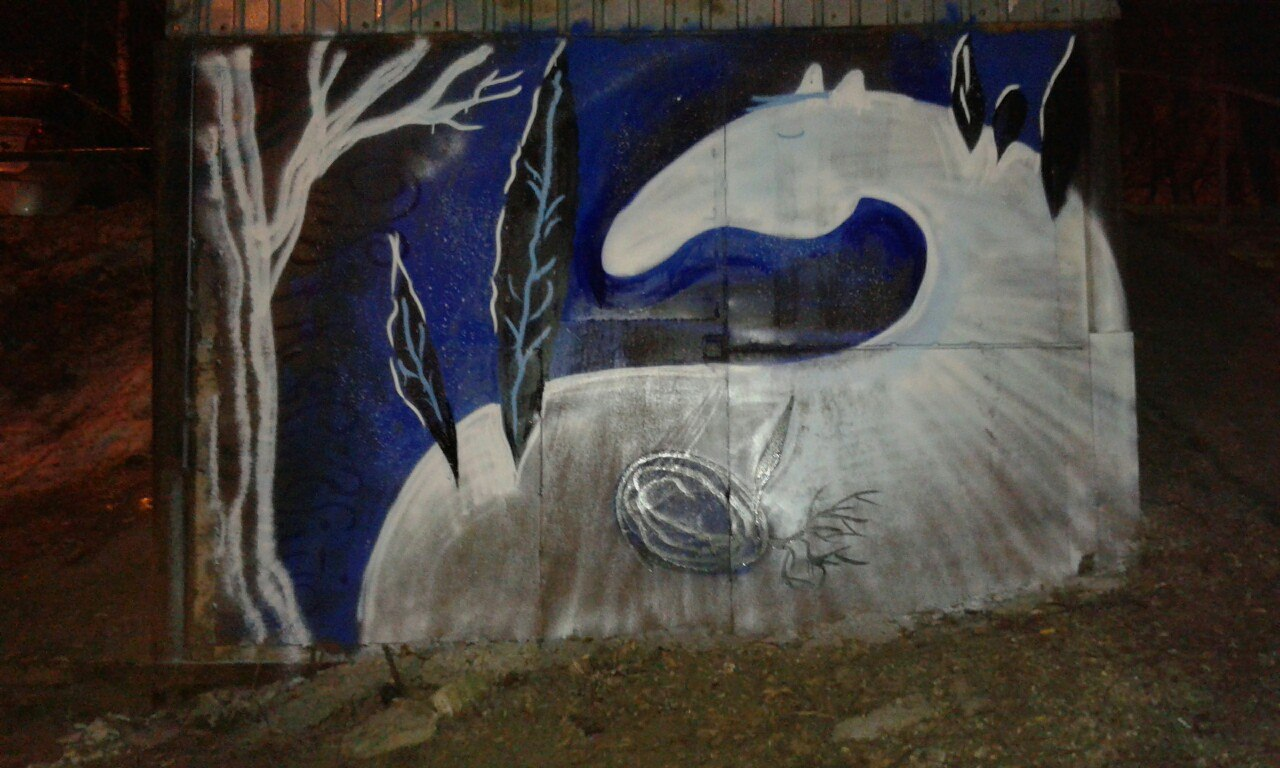graffity: (175, 20, 1148, 664)
